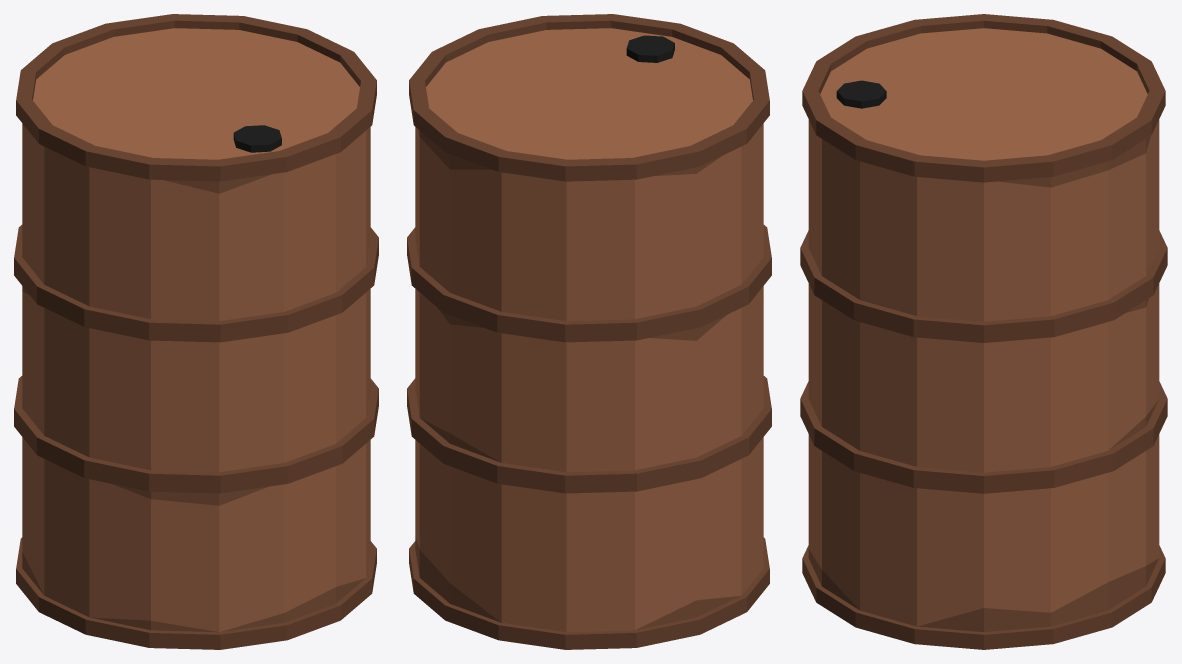
The model's file is Barrel_05.fbx.
3 renders of one model, left to right at view 1: azimuth 30°, elevation 25°; view 2: azimuth 150°, elevation 25°; view 3: azimuth 270°, elevation 25°, orthographic.
Visible parts, largest first — view 1: Barrel_05; view 2: Barrel_05; view 3: Barrel_05.
Boxes of the visible parts, <box> form: Barrel_05: <box>14,14,378,649</box>; Barrel_05: <box>407,14,771,649</box>; Barrel_05: <box>800,14,1167,649</box>.
Bounding box in the file's own units: 60.7 × 88 × 60.7.
